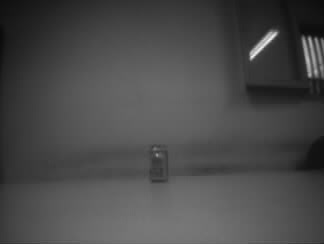Tin can: (147, 143, 169, 182)
